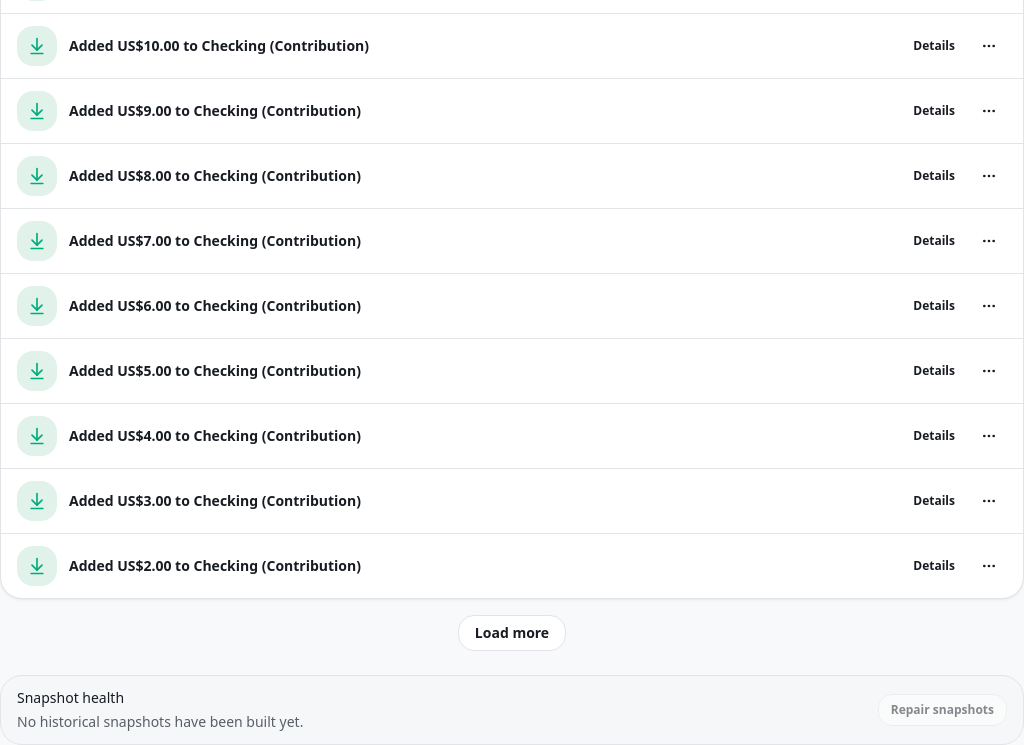
Test: HistoryPage › loads every activity across pages when timestamps are identical
(page scrolled)
Click the button with test id "history-load-more". click: click(512, 633)
box: left=458, top=615, right=566, bottom=651
(page scrolled)
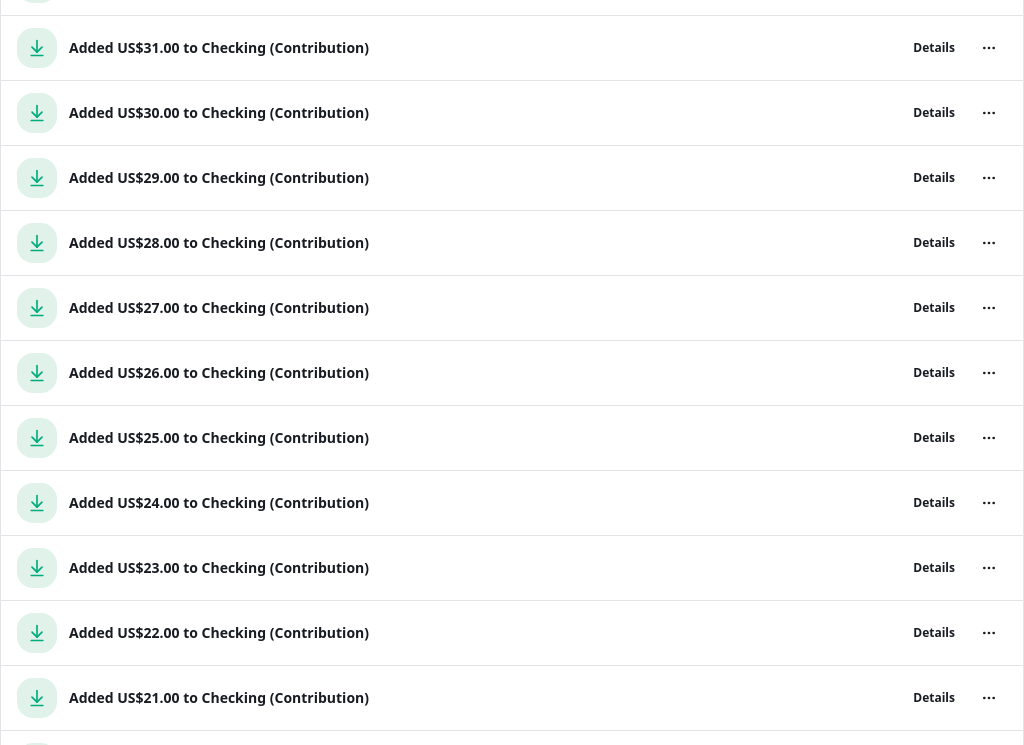
expect the button with test id "history-load-more" is gone: met
